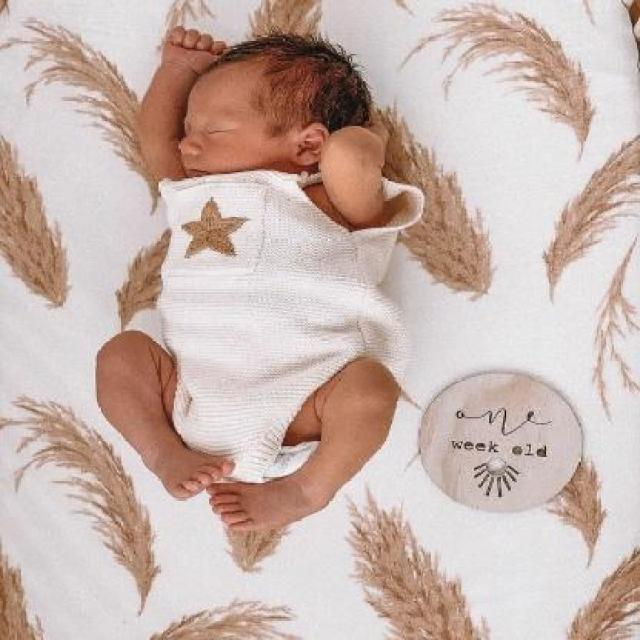baby: (92, 31, 425, 526)
